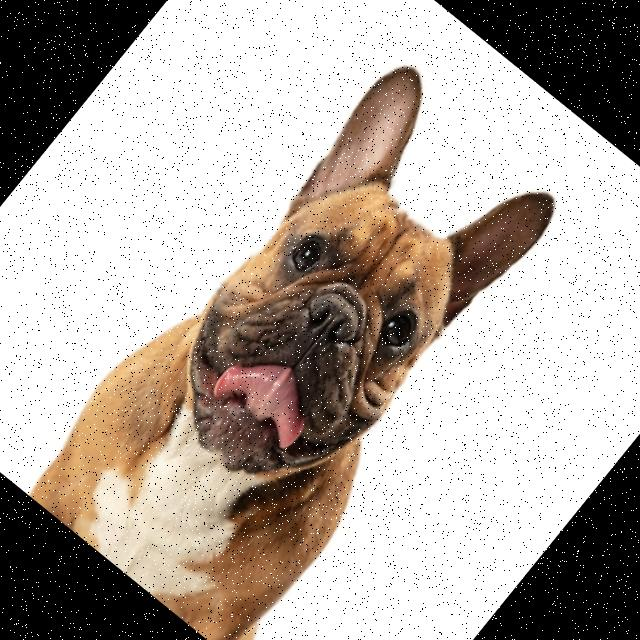Dog: (16, 38, 604, 640)
